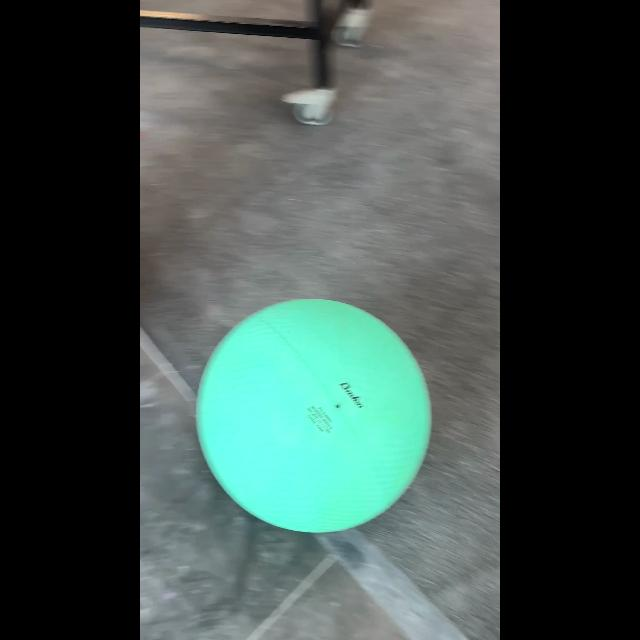ALGAE: (194, 298, 432, 534)
